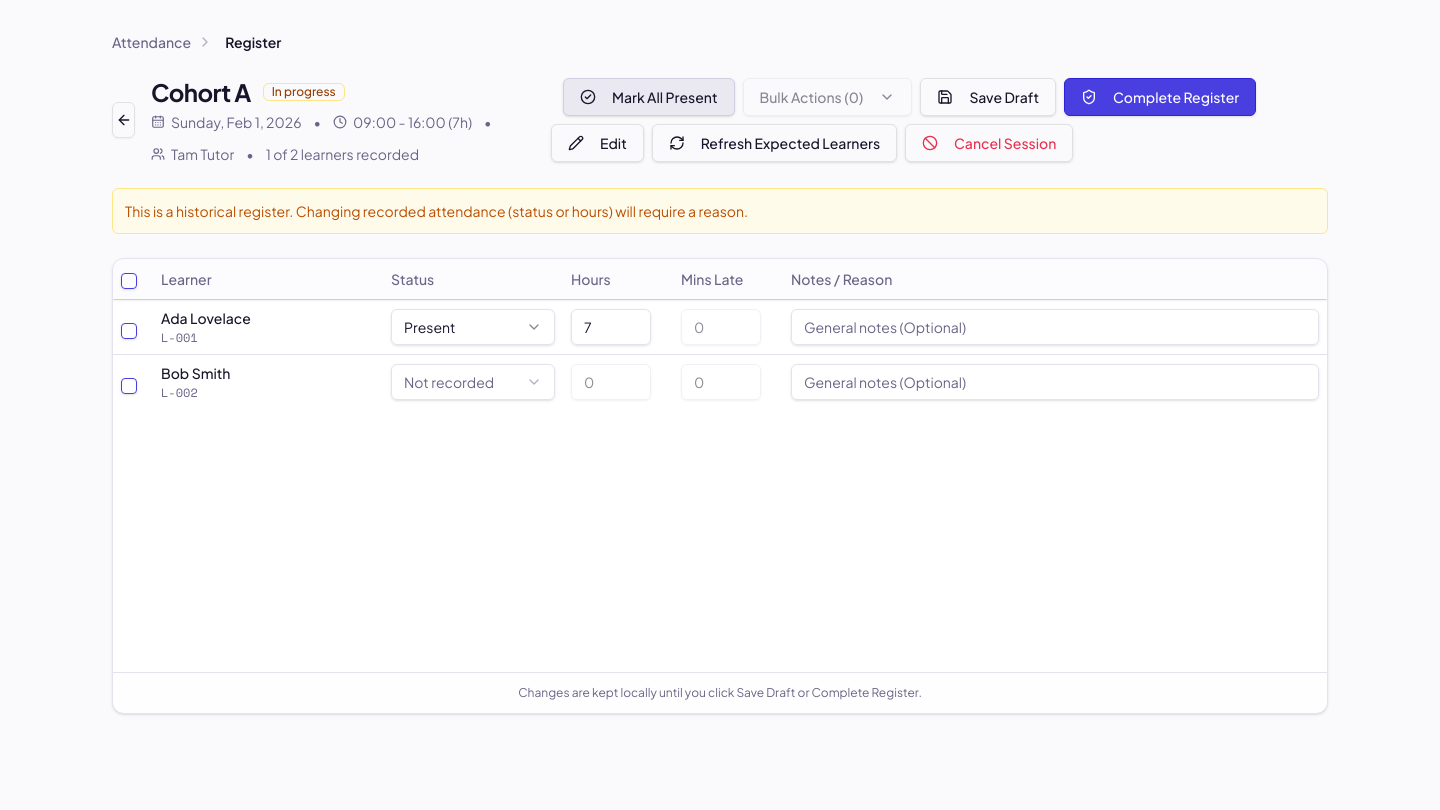
Scenario: RegisterPage › entering hours above the planned duration still requires an override reason
The image size is (1440, 810).
Clear the number field named "hours attended for ada lovelace" at (611, 326), box [571, 308, 651, 344]
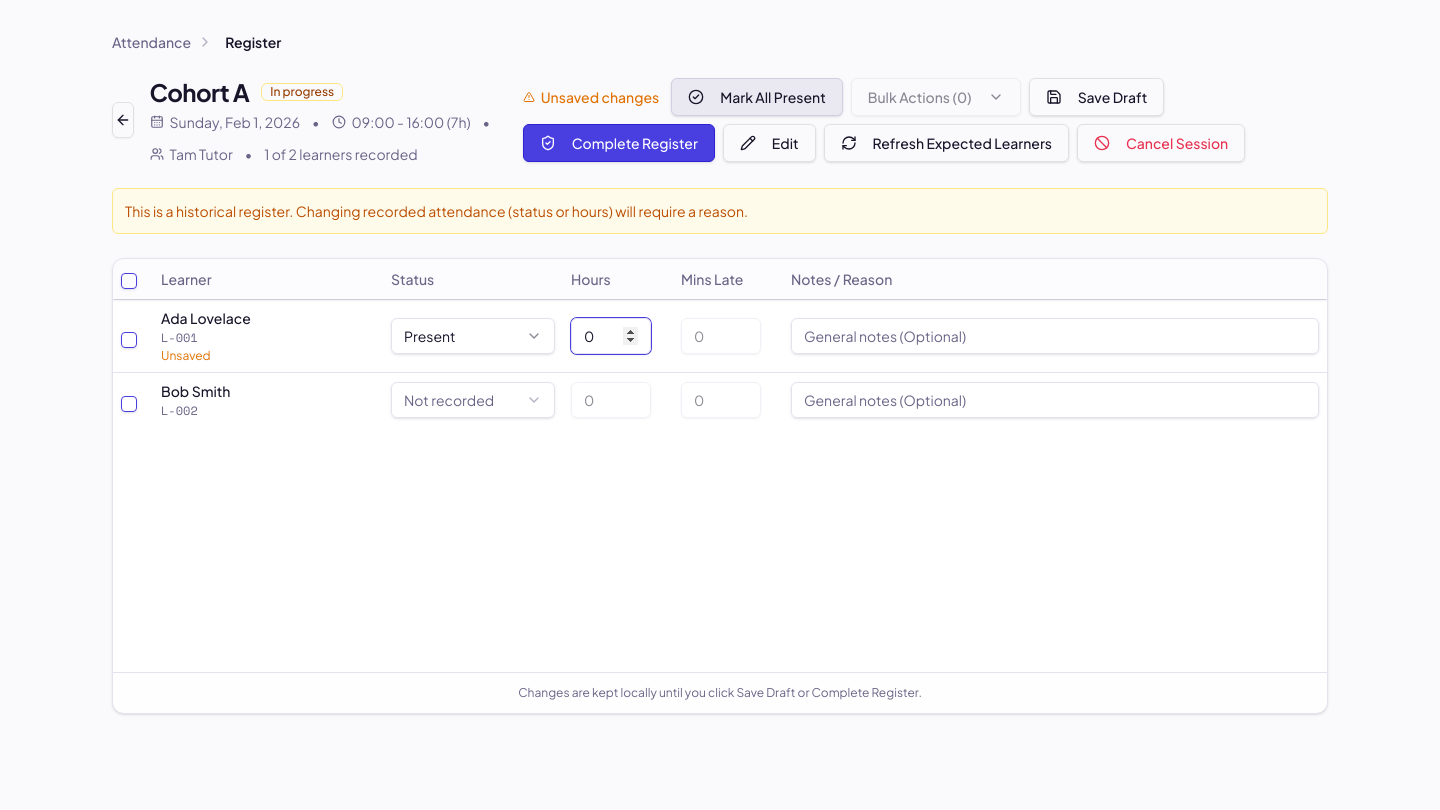
Type "8" into the number field named "hours attended for ada lovelace" at (611, 336), box [571, 318, 651, 354]
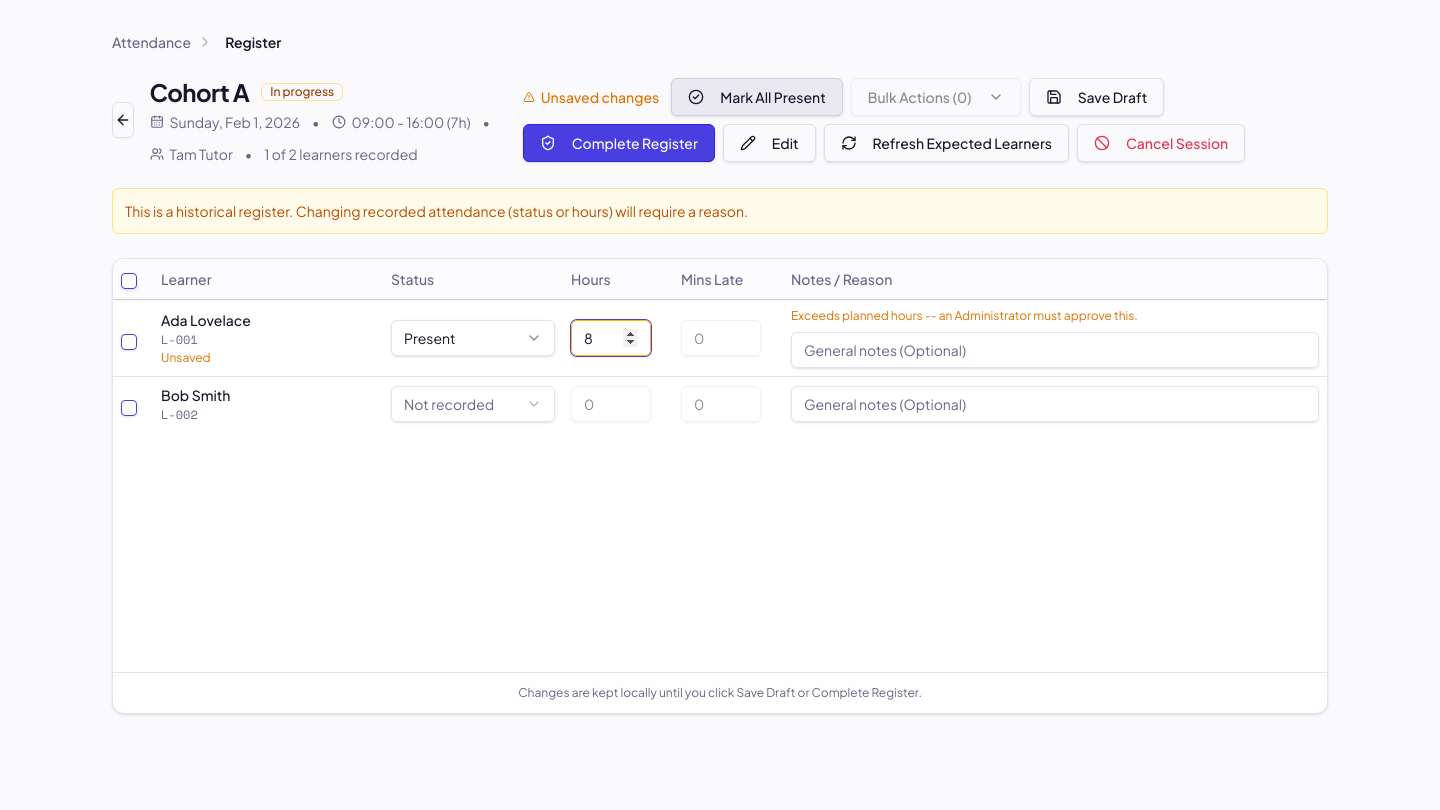
Now the text "Exceeds planned hours -- an Administrator must approve this." is shown, box [791, 308, 1138, 322]
